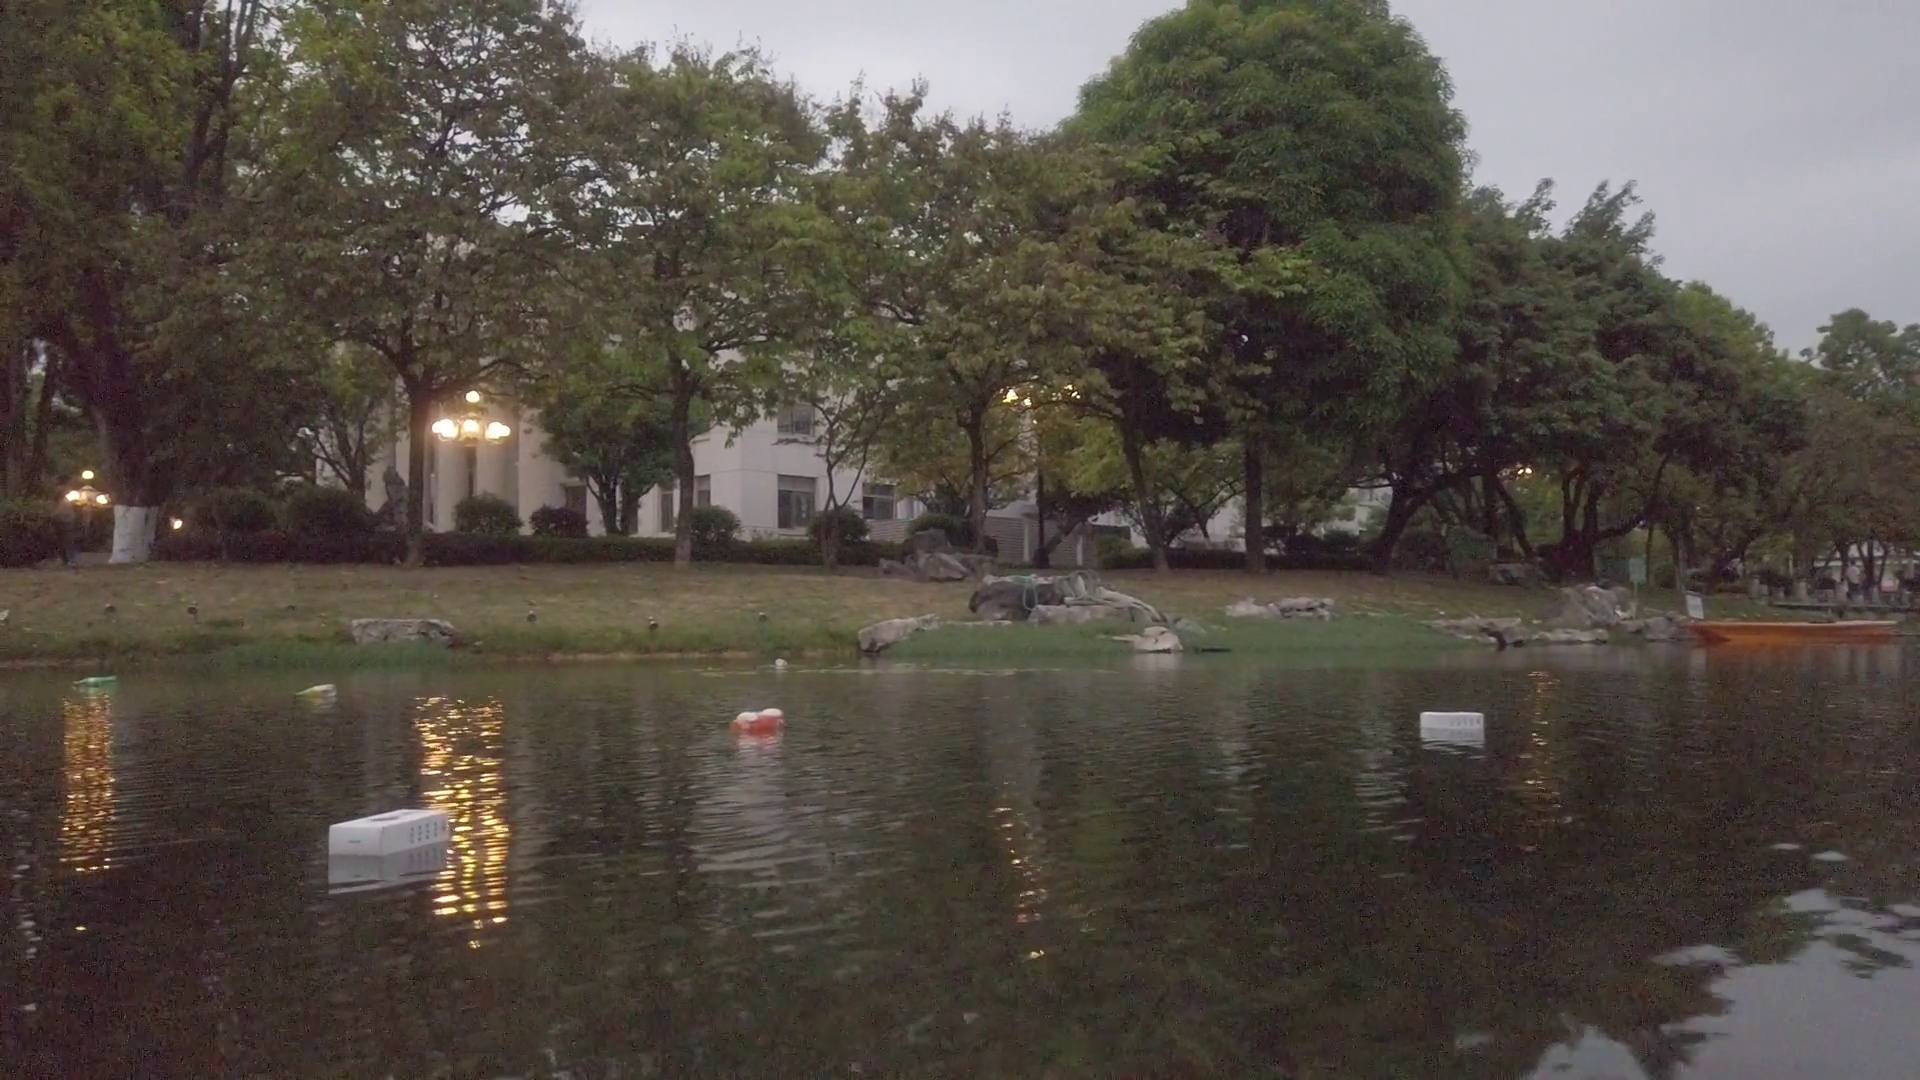bottle: (729, 707, 787, 736), (291, 682, 340, 702), (73, 670, 117, 686), (771, 655, 787, 665)
carton: (324, 800, 448, 852), (1419, 709, 1485, 732)
